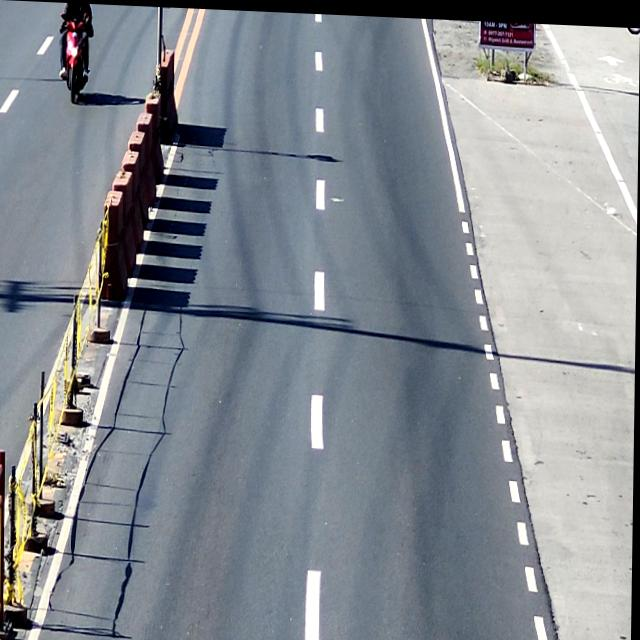Motorcycle: (61, 17, 91, 110)
